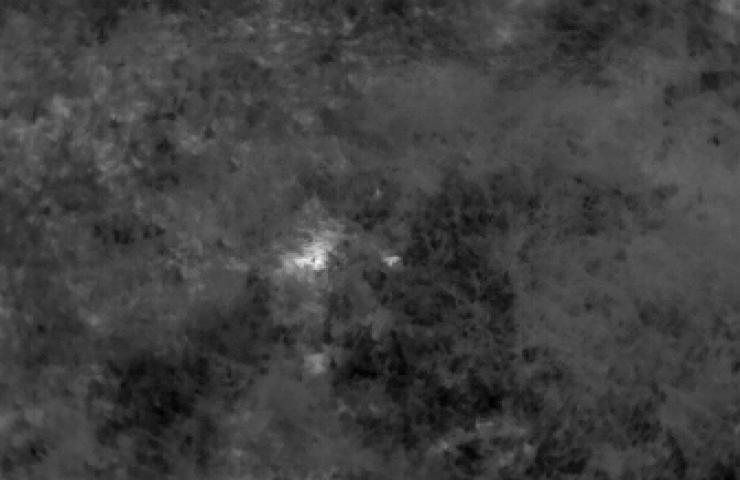landmines: (291, 238, 332, 278)
